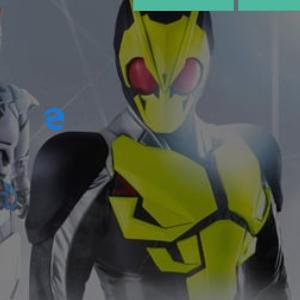edge: (41, 106, 65, 131)
